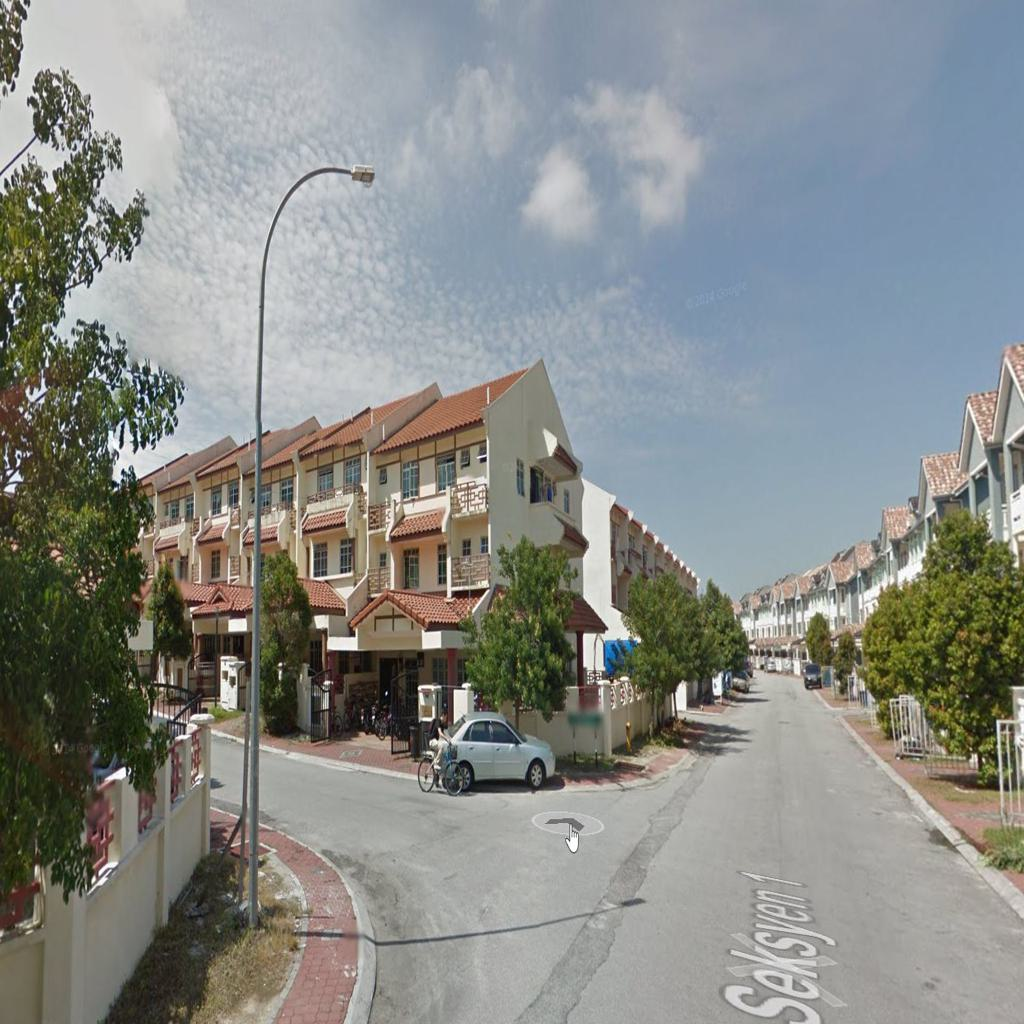Junction: (281, 740, 661, 1014)
